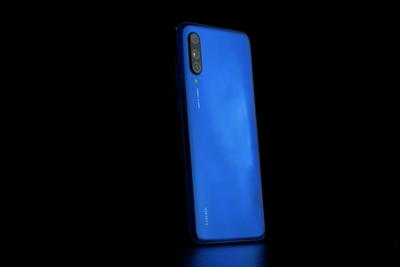Mobile Phone: (174, 21, 266, 244)
